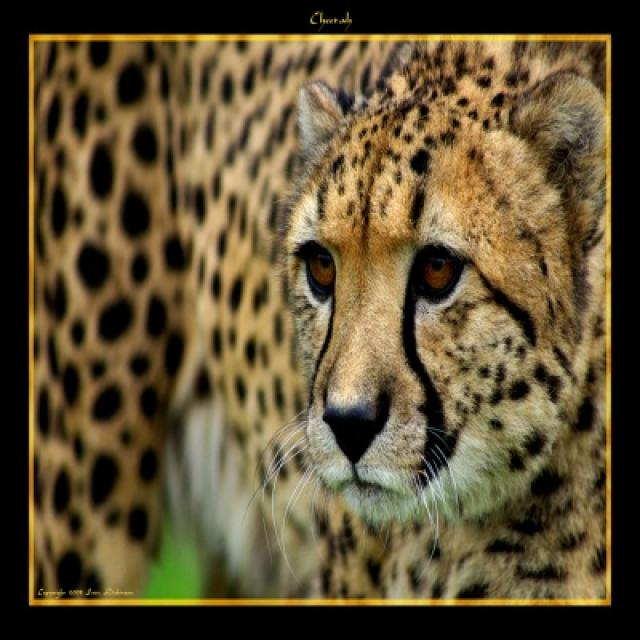Cheetah: (27, 30, 613, 603)
